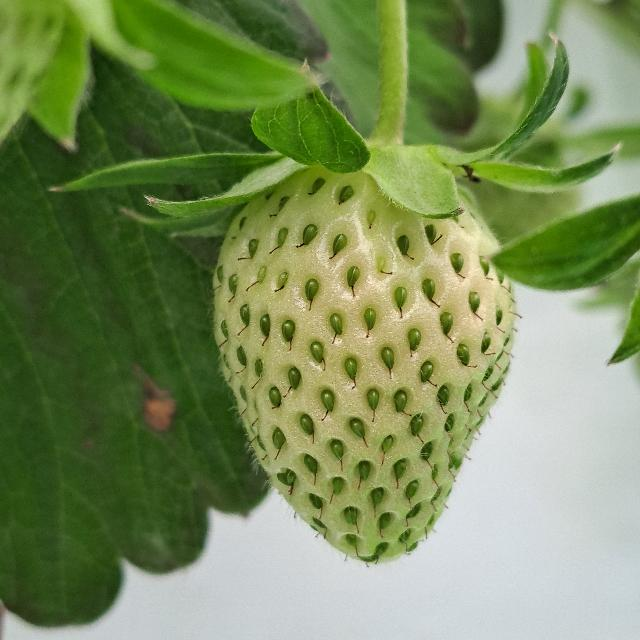Health_25: (212, 174, 516, 564)
